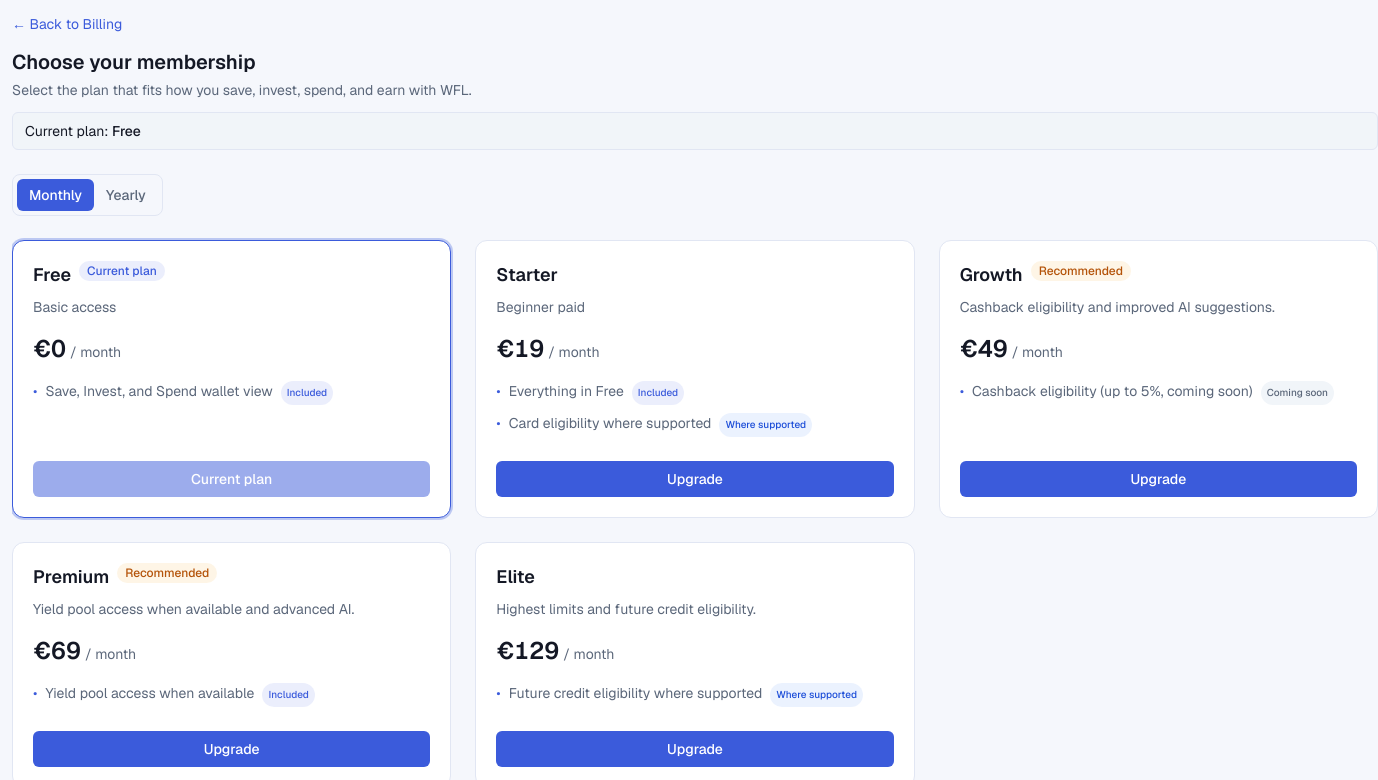
Test: UpgradePlansContent › shows mapped error for unavailable payment provider
Click the button "Upgrade" below "Card eligibility where supported" at [695, 479], box x1=496 y1=461 x2=894 y2=497
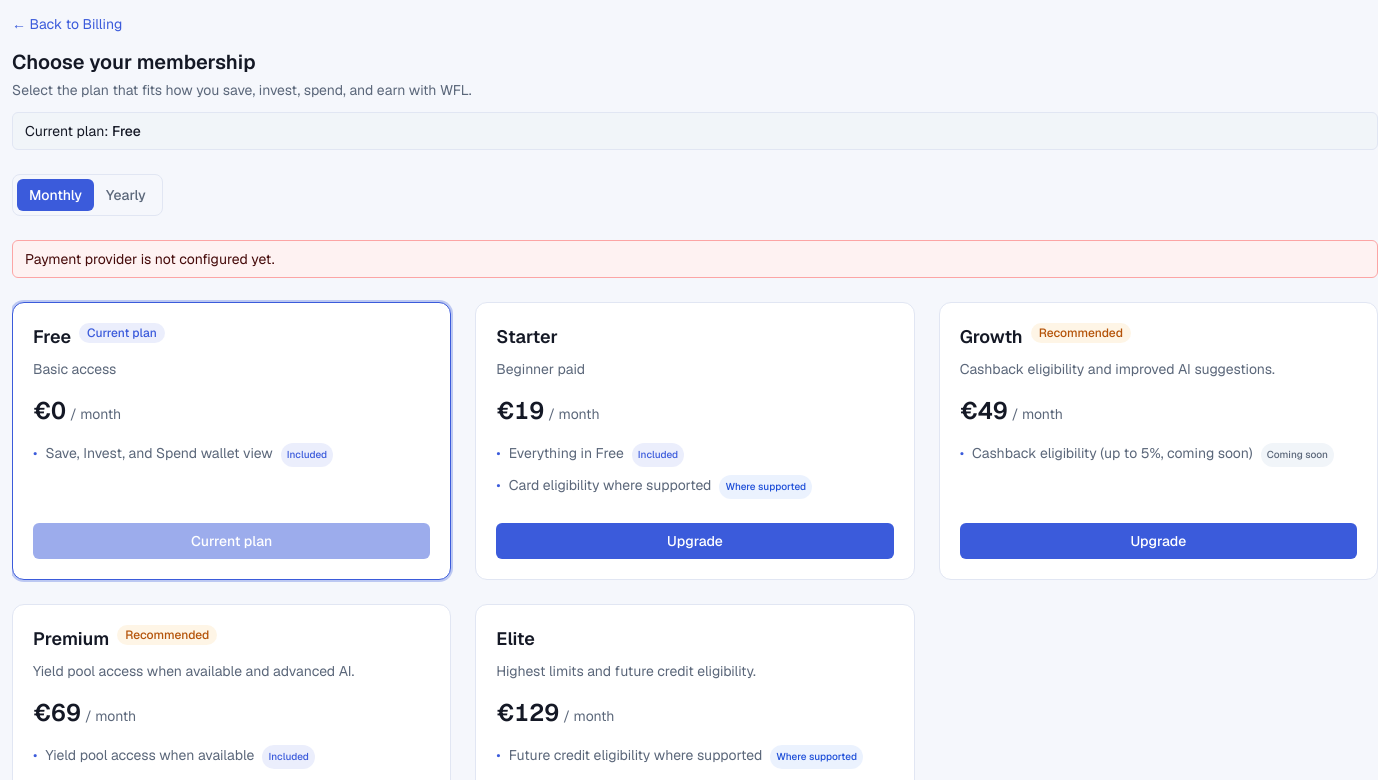
Expected: the text "Payment provider is not configured yet." is shown, x1=12 y1=240 x2=1377 y2=278
